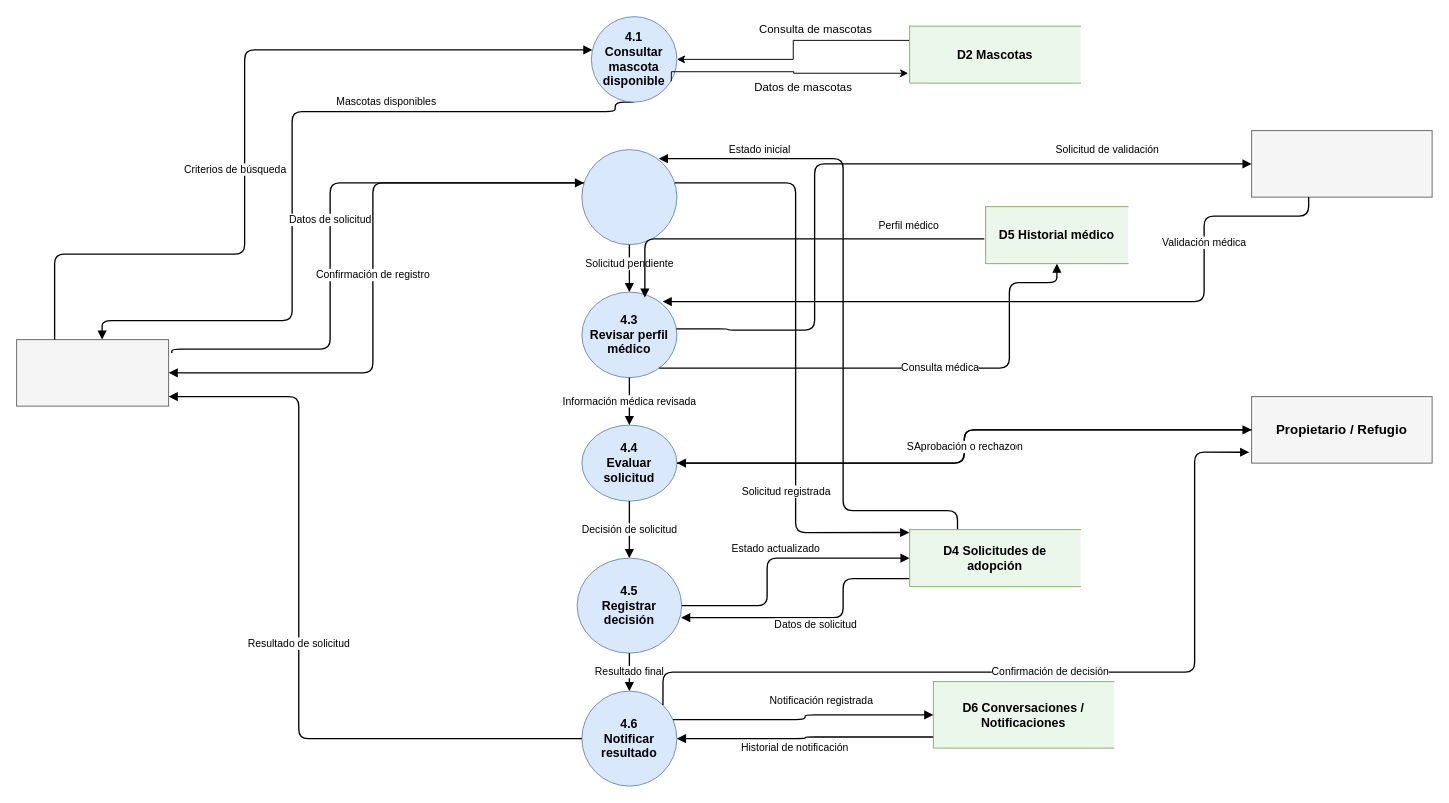
This 1449x803 diagram has some shape labels left out. Here are the shapes that lost their labels. From the top down, the centre of each, then its label:
At (1341,163): "Veterinaria".
At (629,197): "4.2 Registrar solicitud de adopción".
At (92,372): "Adoptante".
